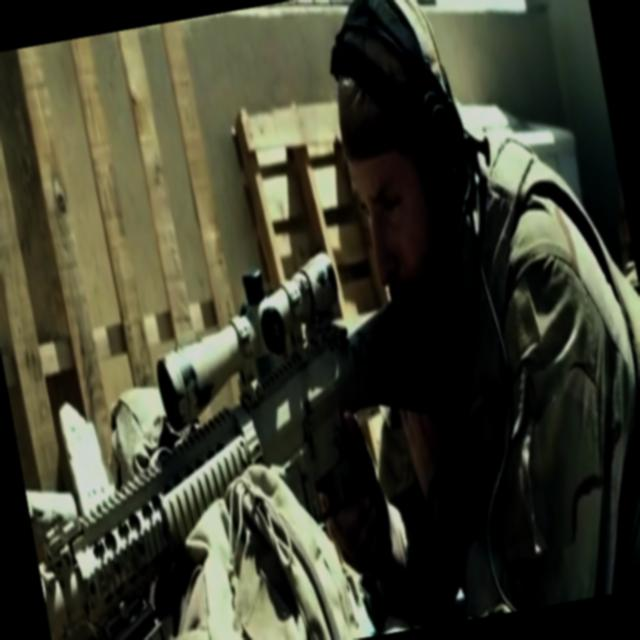rifle: (0, 207, 483, 640)
